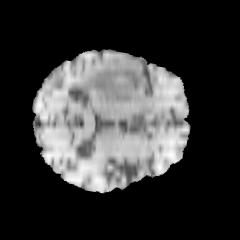glioma: (76, 58, 143, 104)
